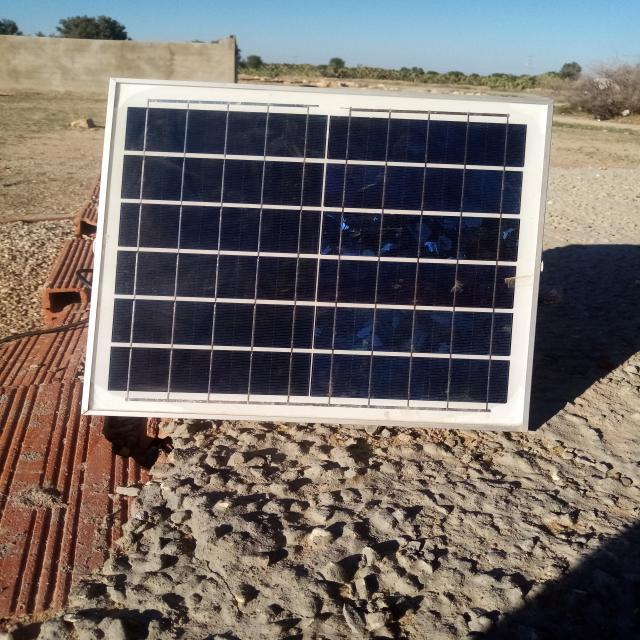faulty: (86, 80, 554, 435)
